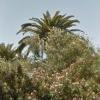Palm tree: (15, 8, 83, 61)
